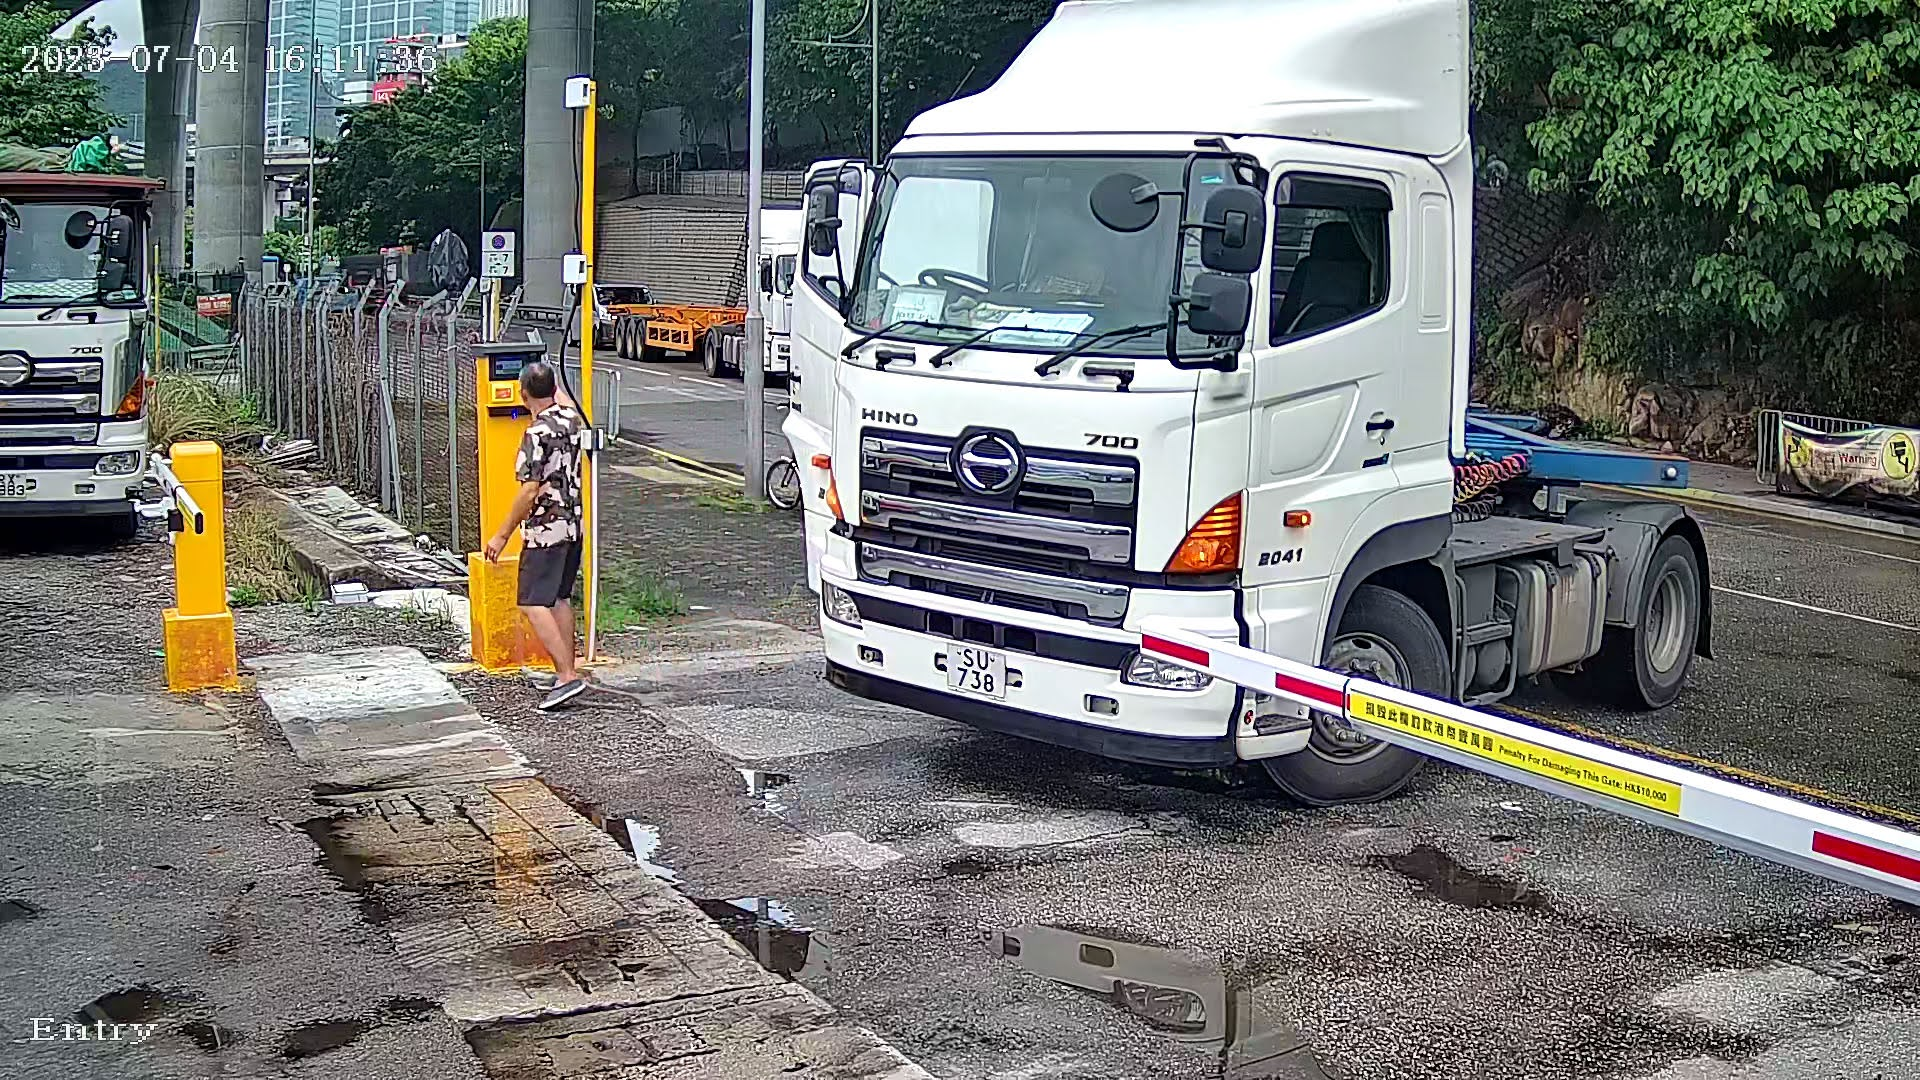tractor: (756, 1, 1724, 791)
